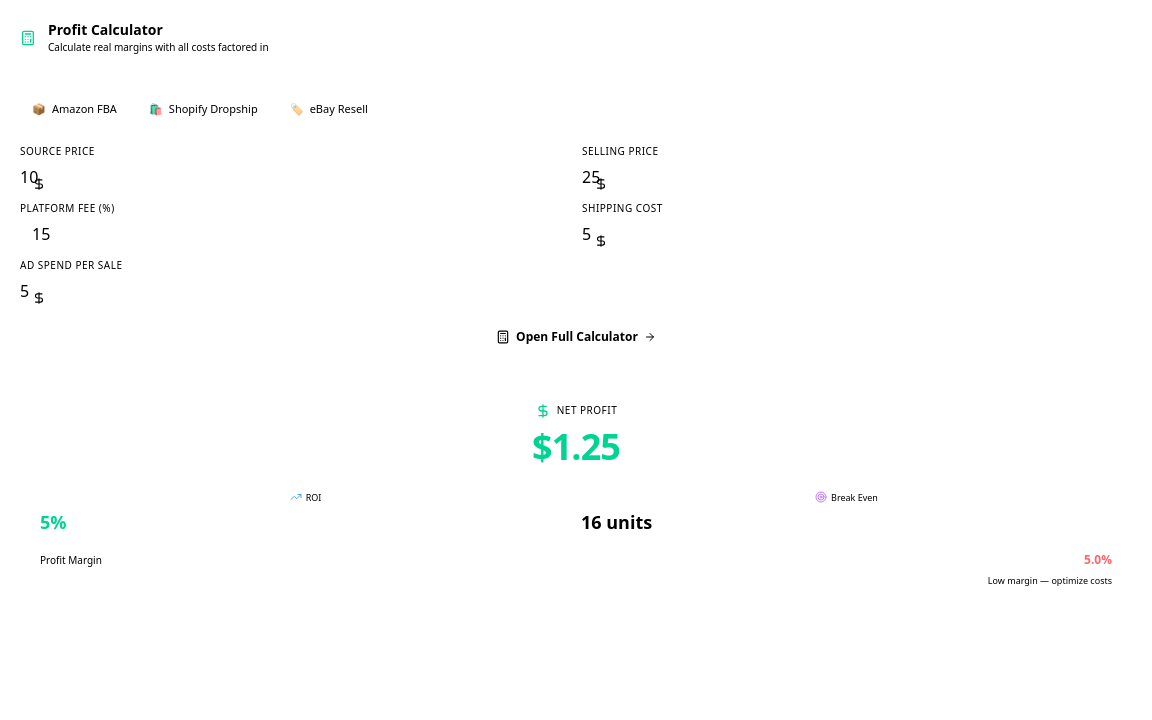
ProfitCalculator › recomputes results when the selling price changes
The width and height of the screenshot is (1152, 720).
Replace the text in the number field below "Selling Price" with "50" at point(698, 176), box left=582, top=164, right=813, bottom=188
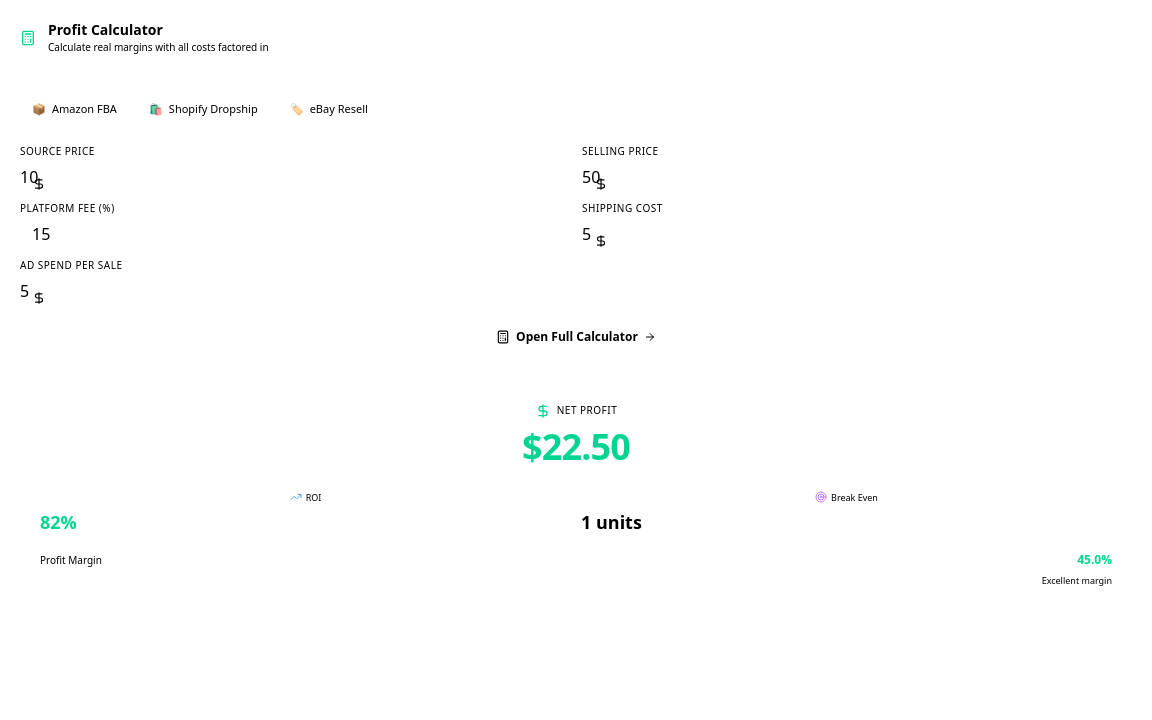
Expected: the text "$22.50" is shown, left=522, top=422, right=630, bottom=470
Expected: the text "45.0%" is shown, left=1077, top=552, right=1112, bottom=568
Expected: the text "1 units" is shown, left=581, top=510, right=642, bottom=534
